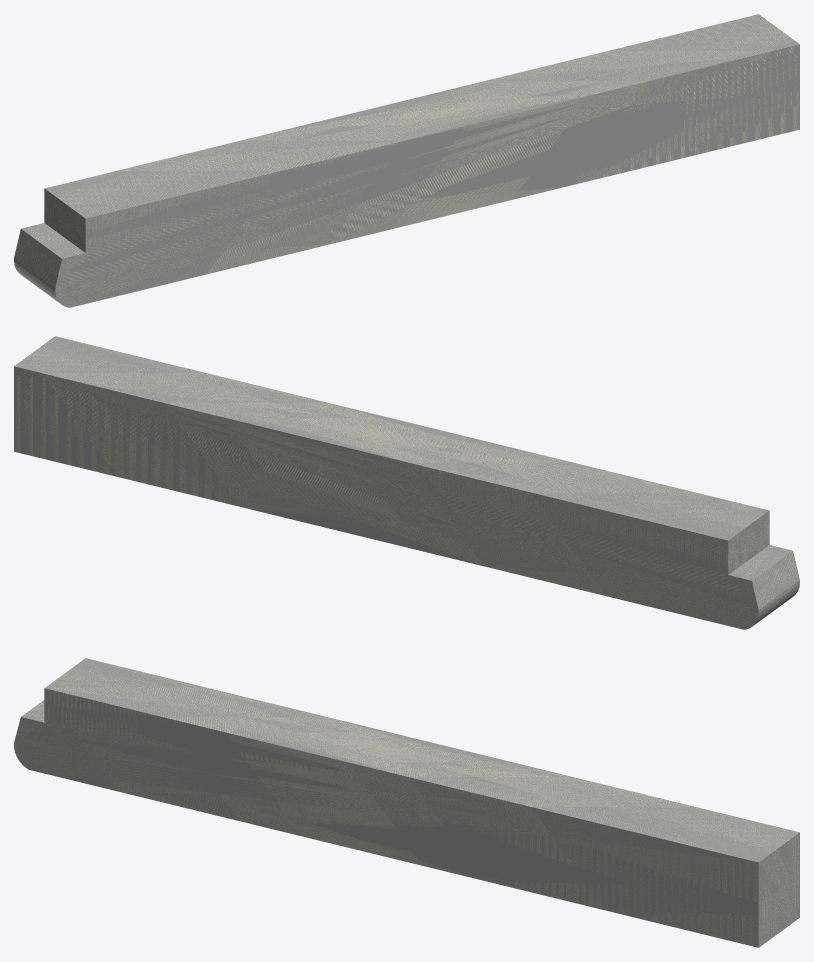
File: original-2.obj
The picture shows the model from 3 angles, top to bottom: view 1: azimuth 30°, elevation 25°; view 2: azimuth 150°, elevation 25°; view 3: azimuth 330°, elevation 25°; orthographic projection.
Parts seen in each view (by area): view 1: Group3/mesh2/mesh2-geometry#mesh2-geometry; view 2: Group3/mesh2/mesh2-geometry#mesh2-geometry; view 3: Group3/mesh2/mesh2-geometry#mesh2-geometry.
Part boxes in pixels (x1,y1,x2,y2): Group3/mesh2/mesh2-geometry#mesh2-geometry: [14, 14, 799, 307]; Group3/mesh2/mesh2-geometry#mesh2-geometry: [14, 336, 799, 629]; Group3/mesh2/mesh2-geometry#mesh2-geometry: [14, 658, 799, 947].
Bounding box in the file's own units: 1.67 × 0.1826 × 0.1598.
